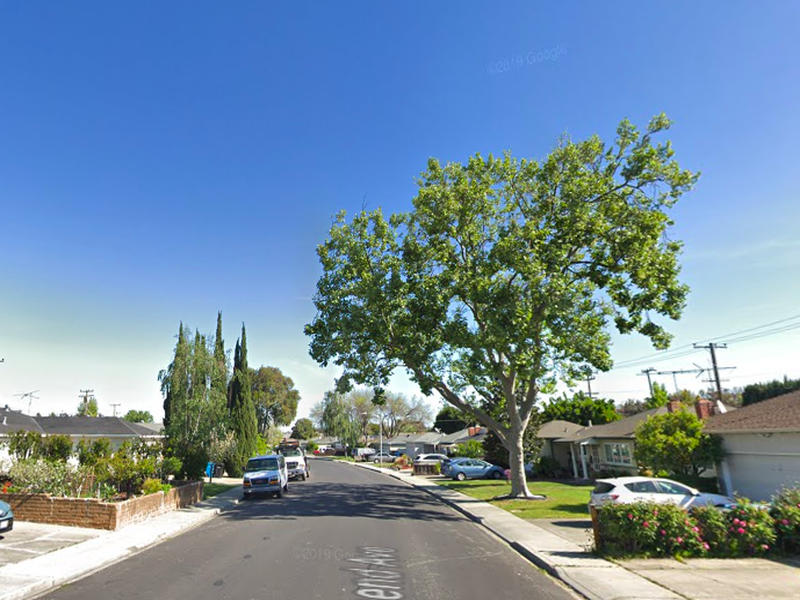tree: (303, 112, 701, 502)
